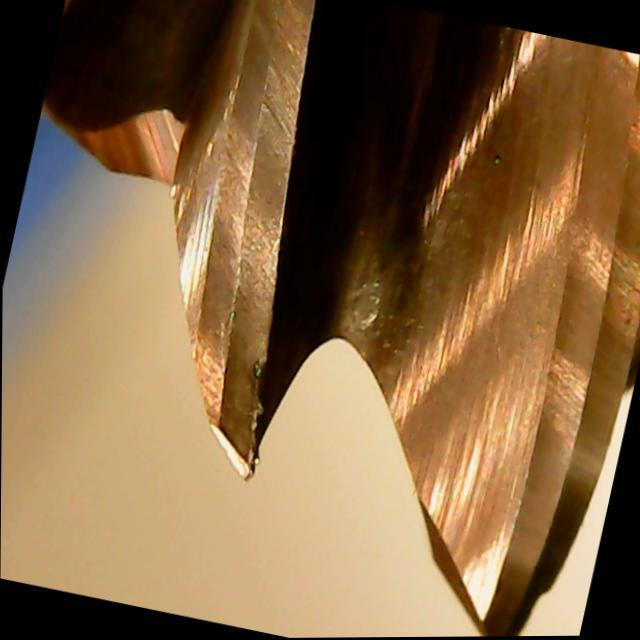Tool-wear-class-1: (136, 151, 338, 492)
